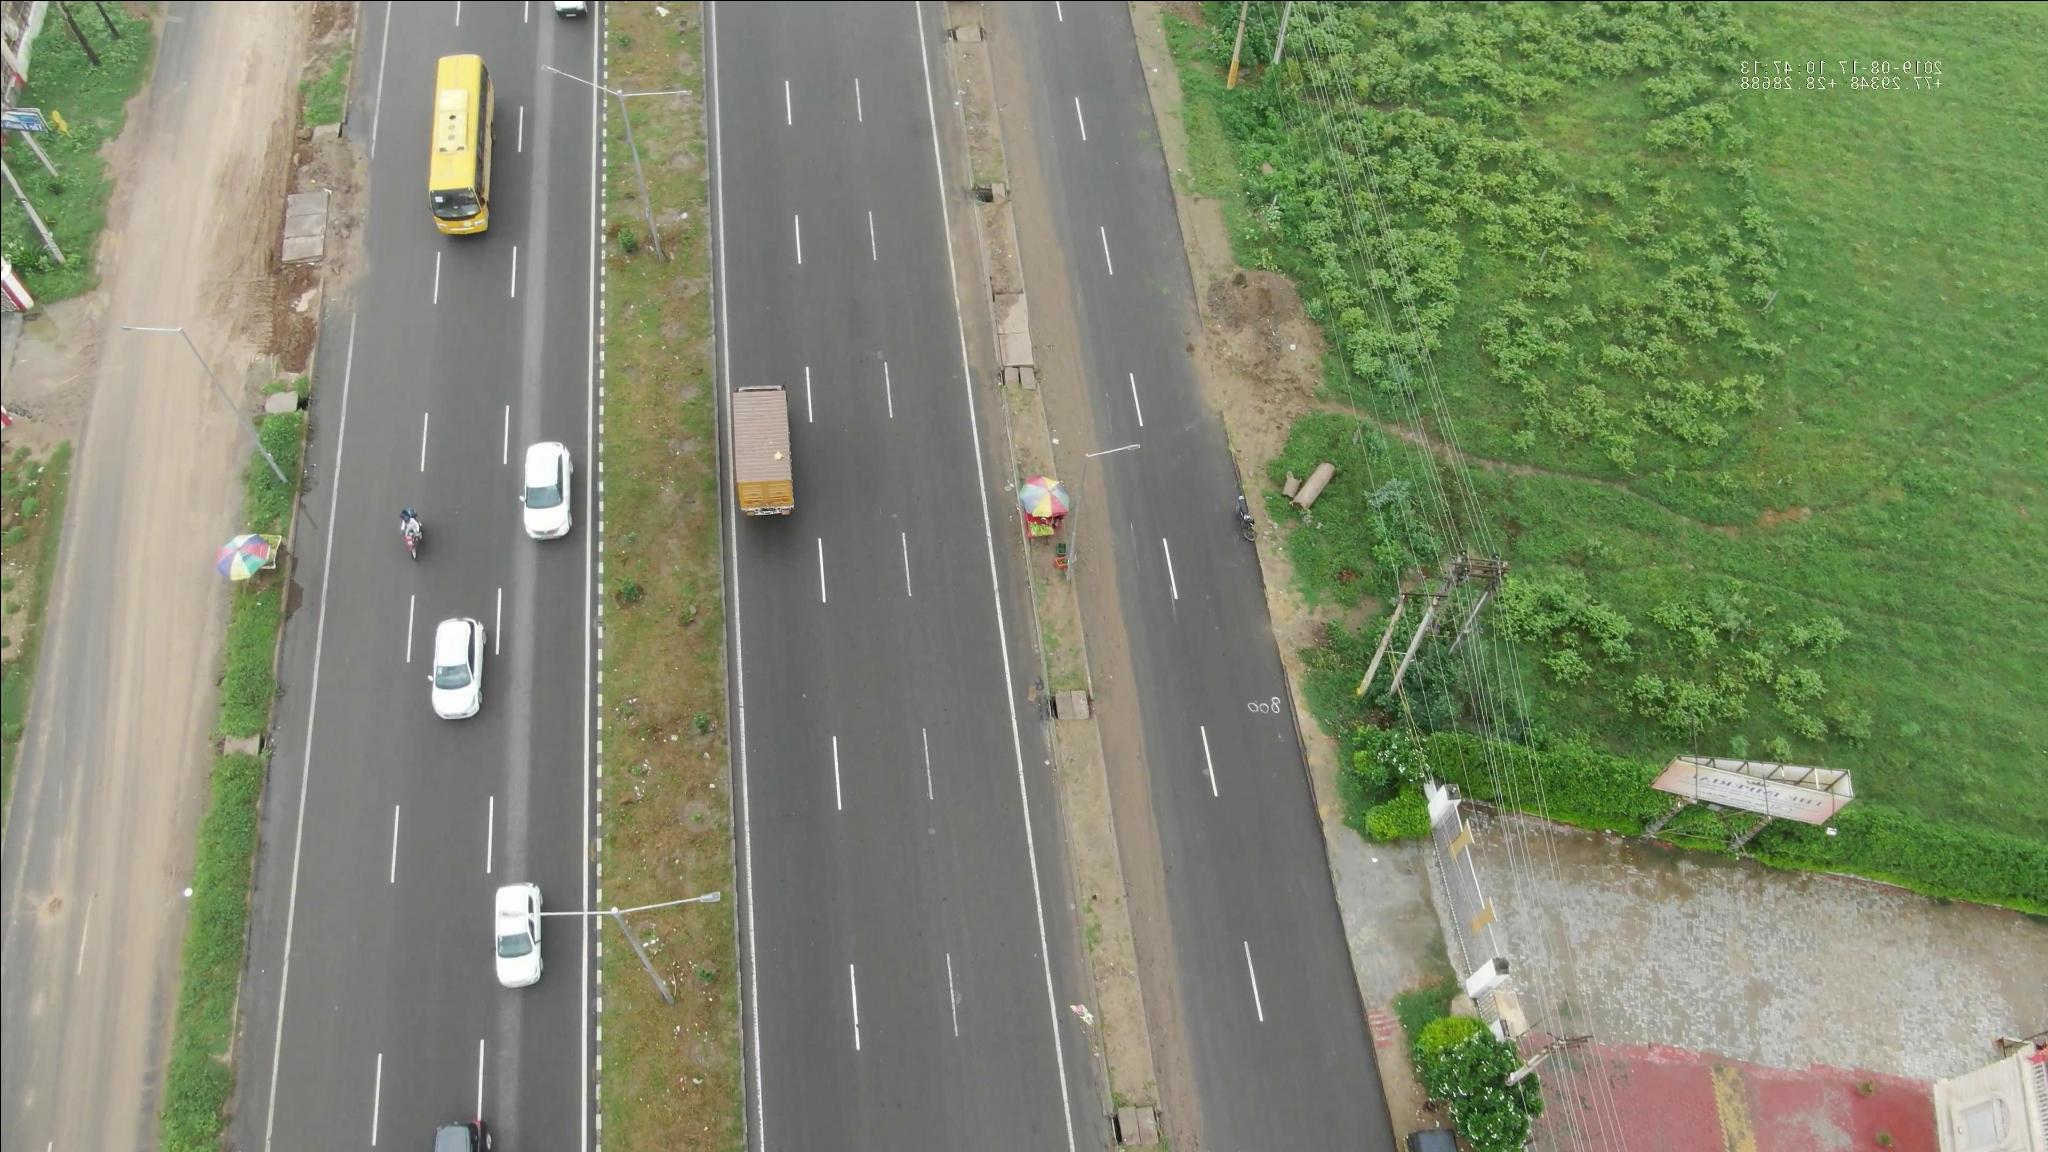Muddy_road: (207, 18, 301, 359)
